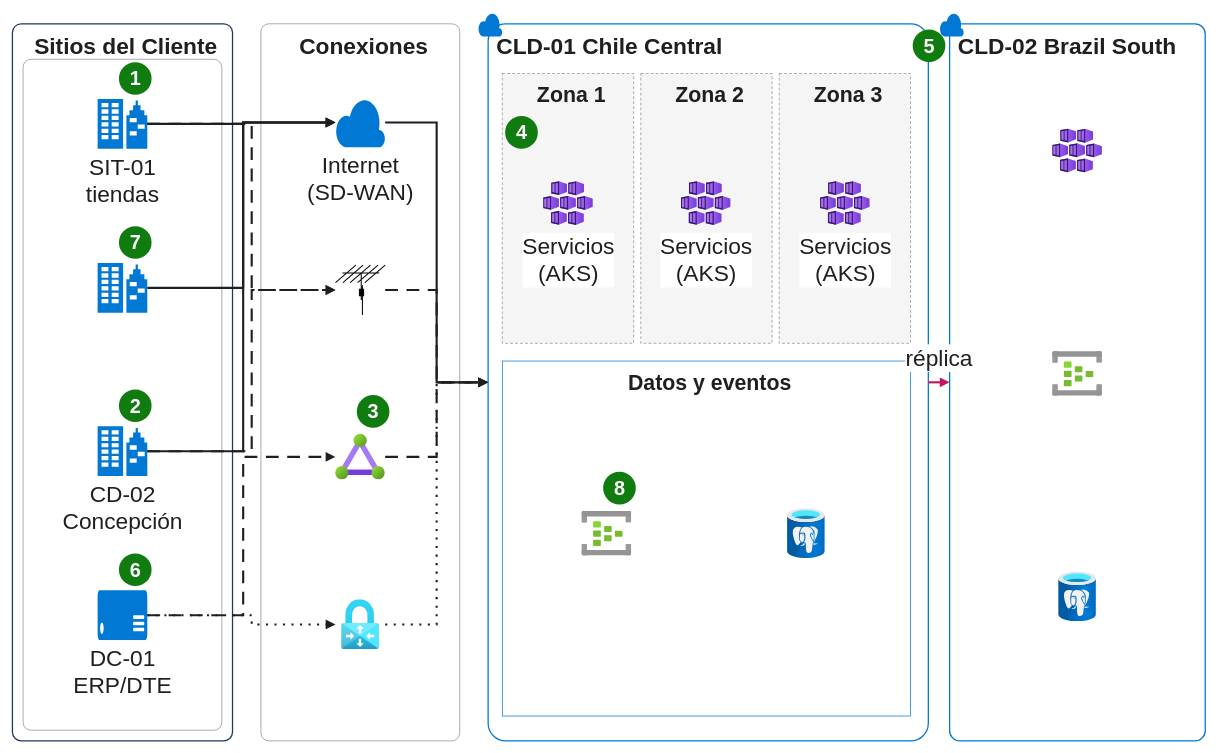
This 1218x753 diagram has some shape labels left out. Each missing label, with the centre of its shape:
"AKS por IaC (en espera)" belongs at pixel 1077 150.
"CD-01 WMS" belongs at pixel 122 287.
"Event Hubs (entre zonas)" belongs at pixel 606 533.
"Event Hubs (réplica)" belongs at pixel 1077 373.
"ExpressRoute (propuesto)" belongs at pixel 360 456.
"PostgreSQL (réplica)" belongs at pixel 1077 596.
"PostgreSQL primario y en espera" belongs at pixel 806 533.
"Respaldo LTE/5G" belongs at pixel 360 289.
"VPN de respaldo" belongs at pixel 360 624.
